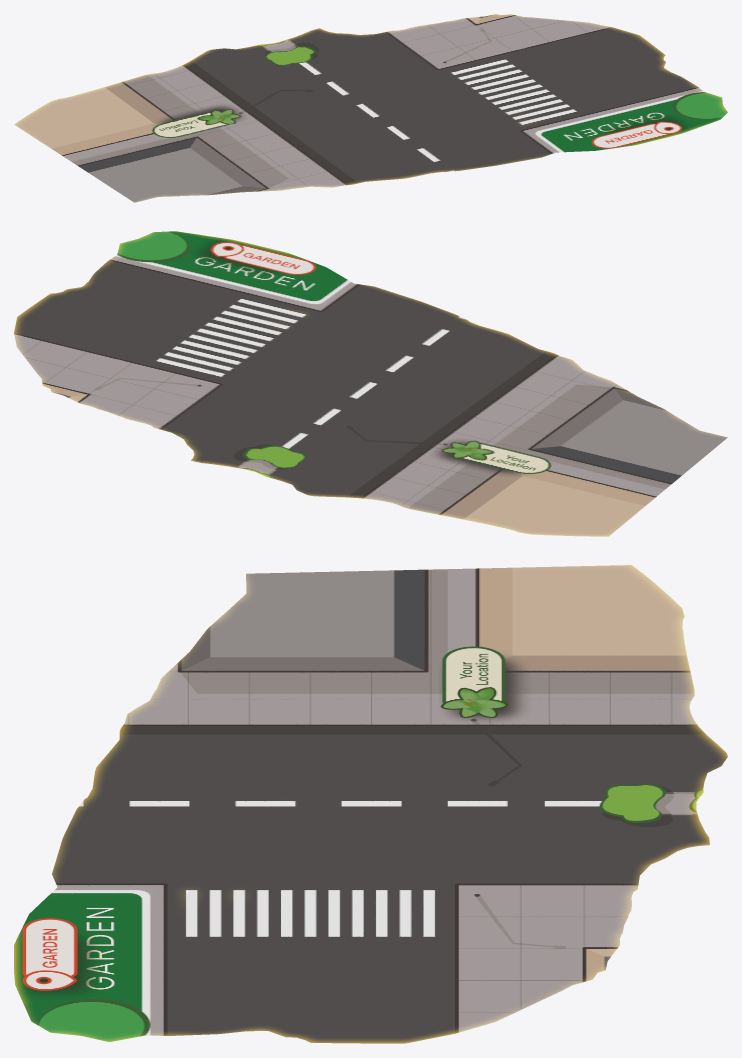
3 renders of one model, top to bottom at view 1: azimuth 30°, elevation 25°; view 2: azimuth 150°, elevation 25°; view 3: azimuth 270°, elevation 25°, orthographic. The views are drawn at different scales.
Parts seen in each view (by area): view 1: Plane; view 2: Plane; view 3: Plane.
Boxes of the visible parts, x1,y1,x2,y2 form: Plane: (14,14,727,202); Plane: (14,231,727,536); Plane: (14,565,727,1043).
Bounding box in the file's own units: 316 × 3.24e-05 × 199.
Materials: 1 (1 with a texture image).
